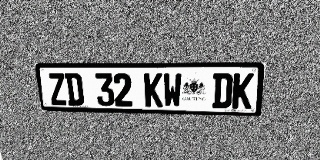2: (113, 73, 132, 106)
3: (95, 73, 115, 106)
D: (212, 73, 233, 108), (64, 73, 85, 106)
K: (232, 73, 254, 109), (144, 73, 163, 107)
W: (163, 73, 182, 107)
Z: (47, 73, 68, 105)
